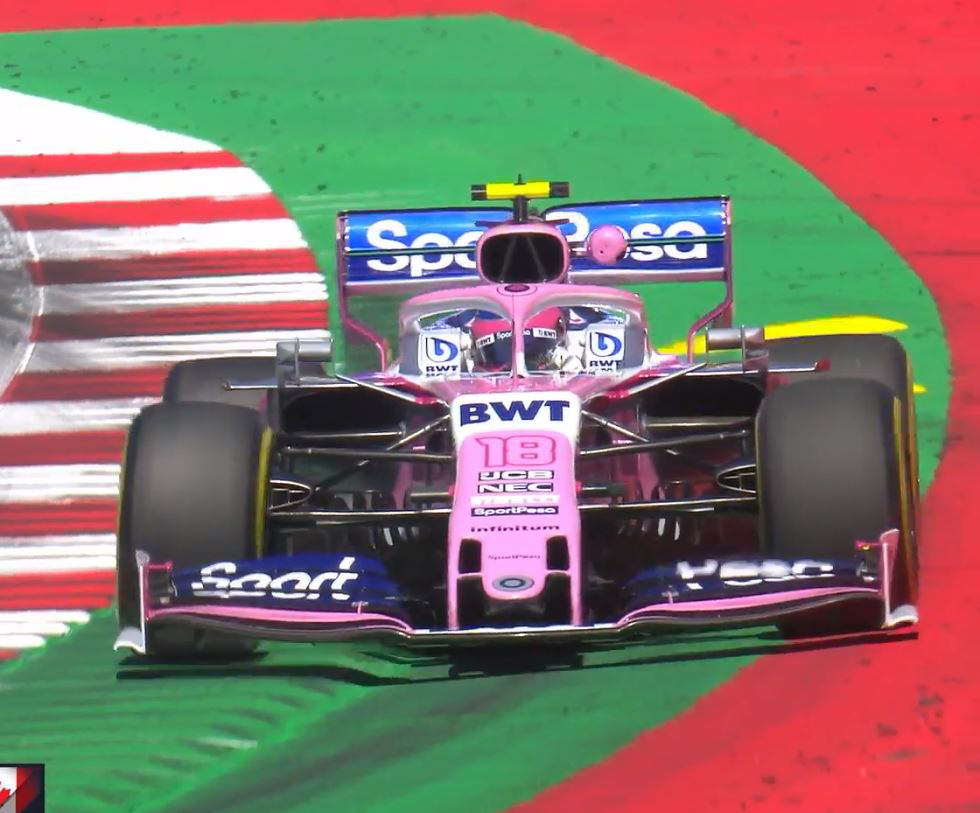F1 Car: (105, 176, 929, 650)
